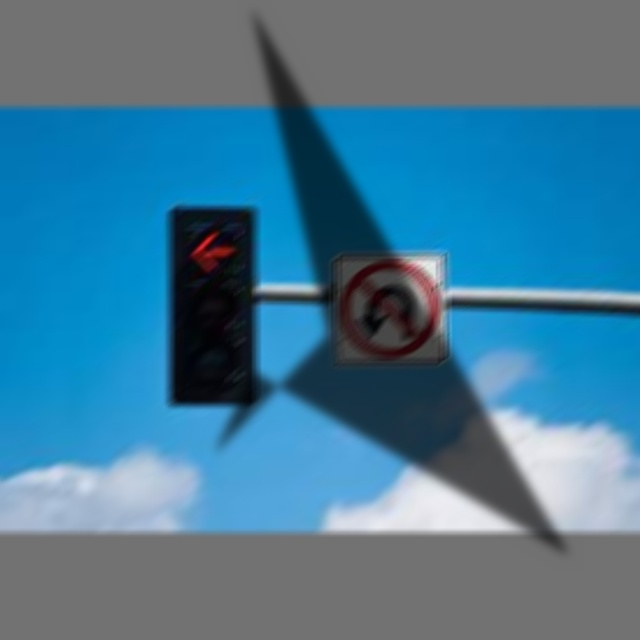U_Turn_Prohibited: (338, 257, 444, 362)
